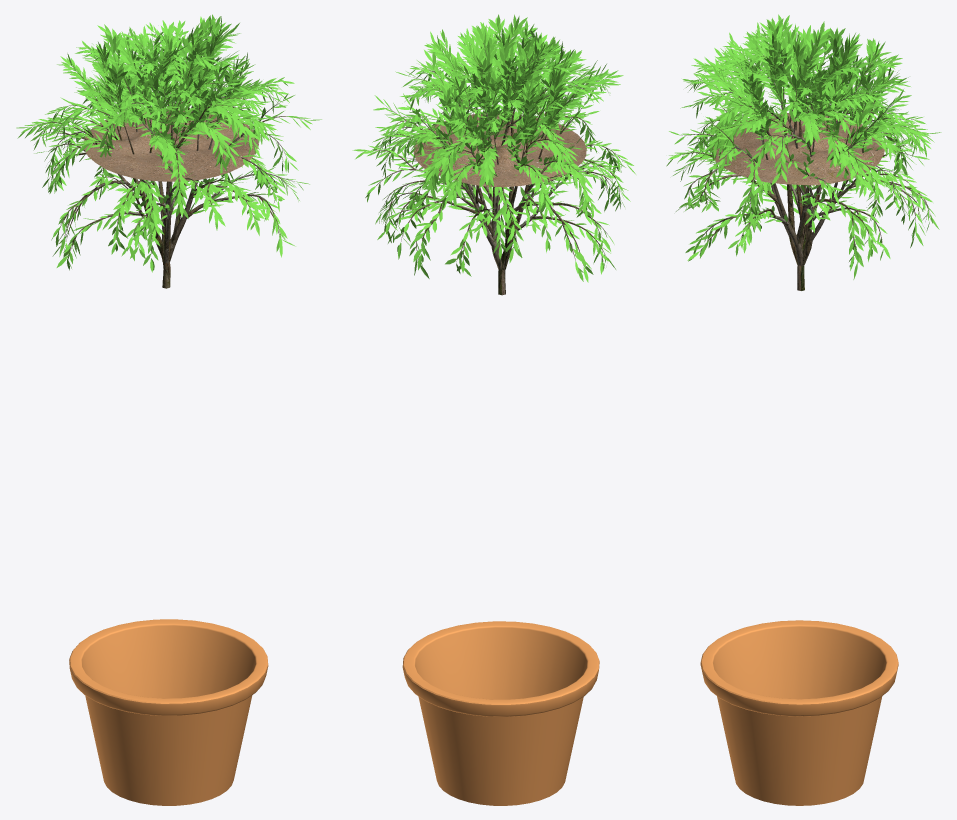
The picture shows the model from 3 angles, left to right: view 1: azimuth 30°, elevation 25°; view 2: azimuth 150°, elevation 25°; view 3: azimuth 270°, elevation 25°; orthographic projection.
Visible parts, largest first — view 1: leaves, Circle, Circle.001, tree; view 2: leaves, Circle, tree, Circle.001; view 3: leaves, Circle, tree, Circle.001.
Part boxes in pixels (x1,y1,x2,y2): leaves: (16,14,321,272); Circle: (69,619,268,805); Circle.001: (84,108,258,181); tree: (30,33,304,288); leaves: (352,14,635,282); Circle: (402,621,599,805); tree: (374,34,623,295); Circle.001: (413,113,586,187); leaves: (666,14,941,279); Circle: (700,620,898,805); tree: (677,48,930,290); Circle.001: (713,113,884,185).
Bounding box in the file's own units: 61.84 × 191 × 63.67.
4 materials, 2 textured.
